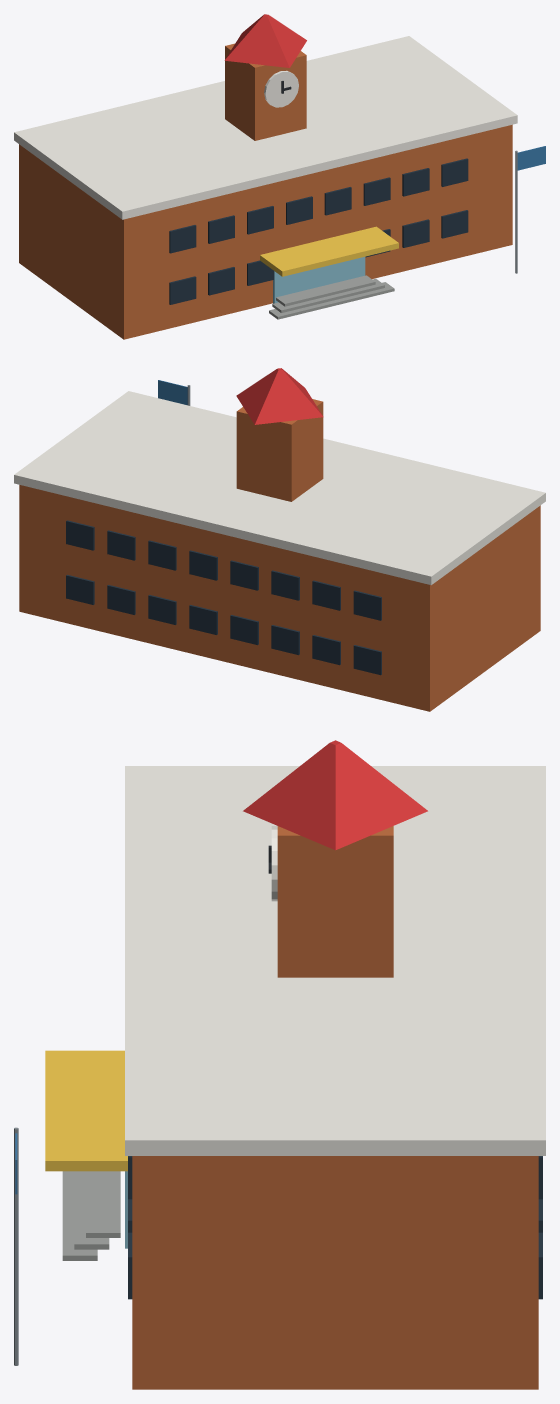
The model's file is school.glb.
The picture shows the model from 3 angles, top to bottom: view 1: azimuth 30°, elevation 25°; view 2: azimuth 150°, elevation 25°; view 3: azimuth 270°, elevation 25°; orthographic projection. The views are drawn at different scales.
Parts seen in each view (by area): view 1: Cube.001; view 2: Cube.001; view 3: Cube.001.
Part boxes in pixels (box(x1,y1,x2,y2)): Cube.001: box(14, 14, 545, 339); Cube.001: box(14, 368, 545, 711); Cube.001: box(14, 740, 545, 1389).
Bounding box in the file's own units: 30.5 × 17.6 × 18.33.
